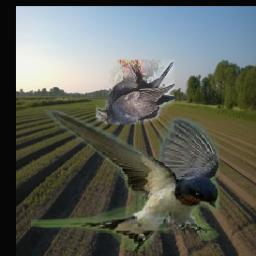Crow: (96, 60, 174, 124)
Swallow: (32, 107, 220, 251)
